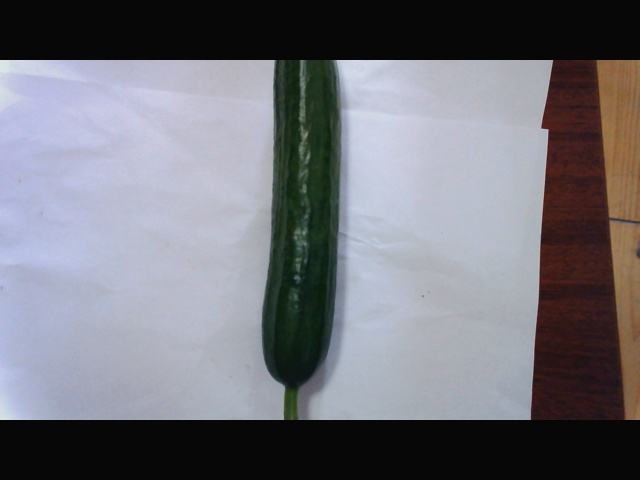cucumber: (247, 60, 352, 413)
